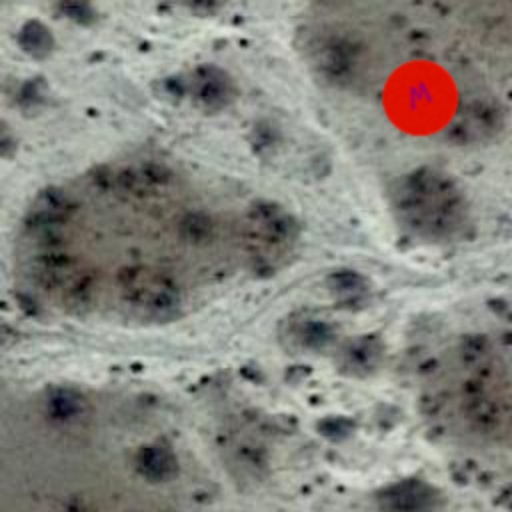circle: (368, 46, 472, 150)
